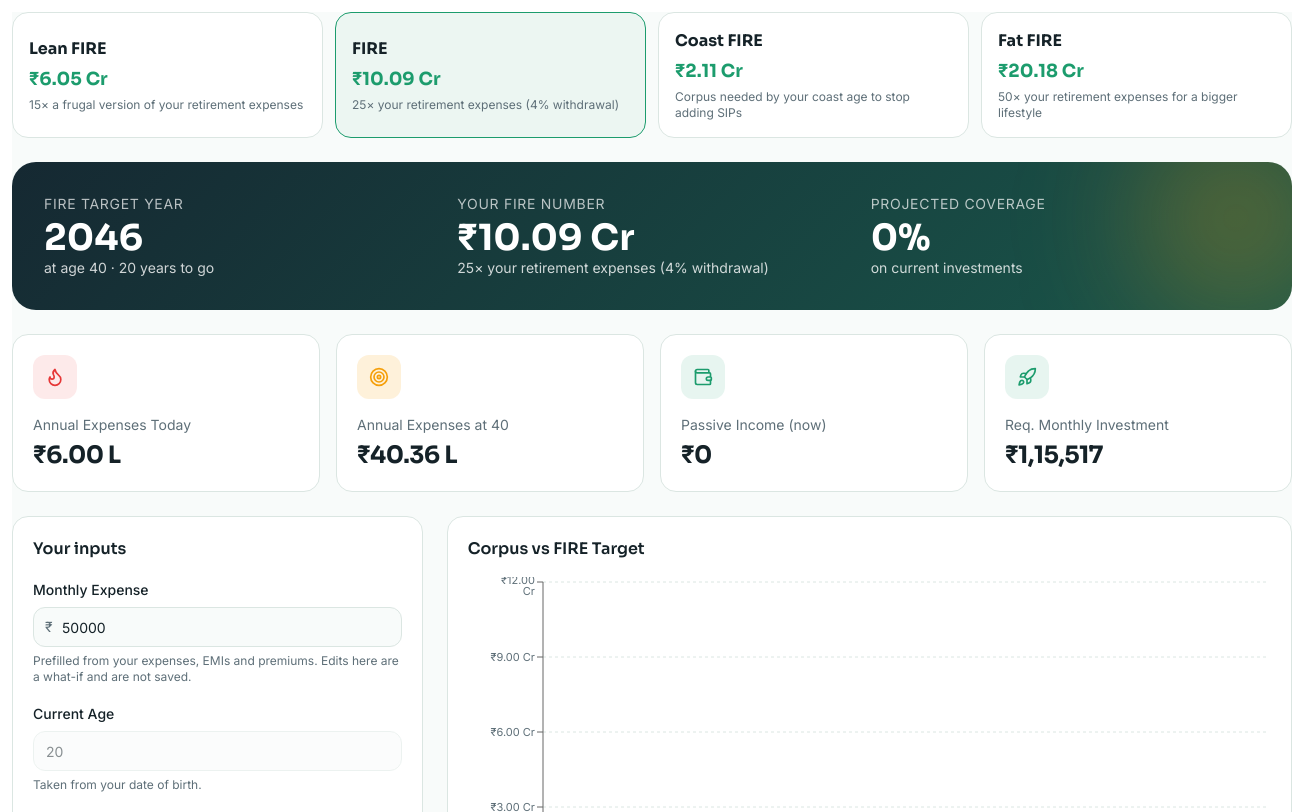
Test: FreedomCalculator › recalculates without saving when the monthly expense is changed
Replace the text in the number field labelled "Monthly Expense" with "100000" at (217, 627), box left=33, top=607, right=402, bottom=647
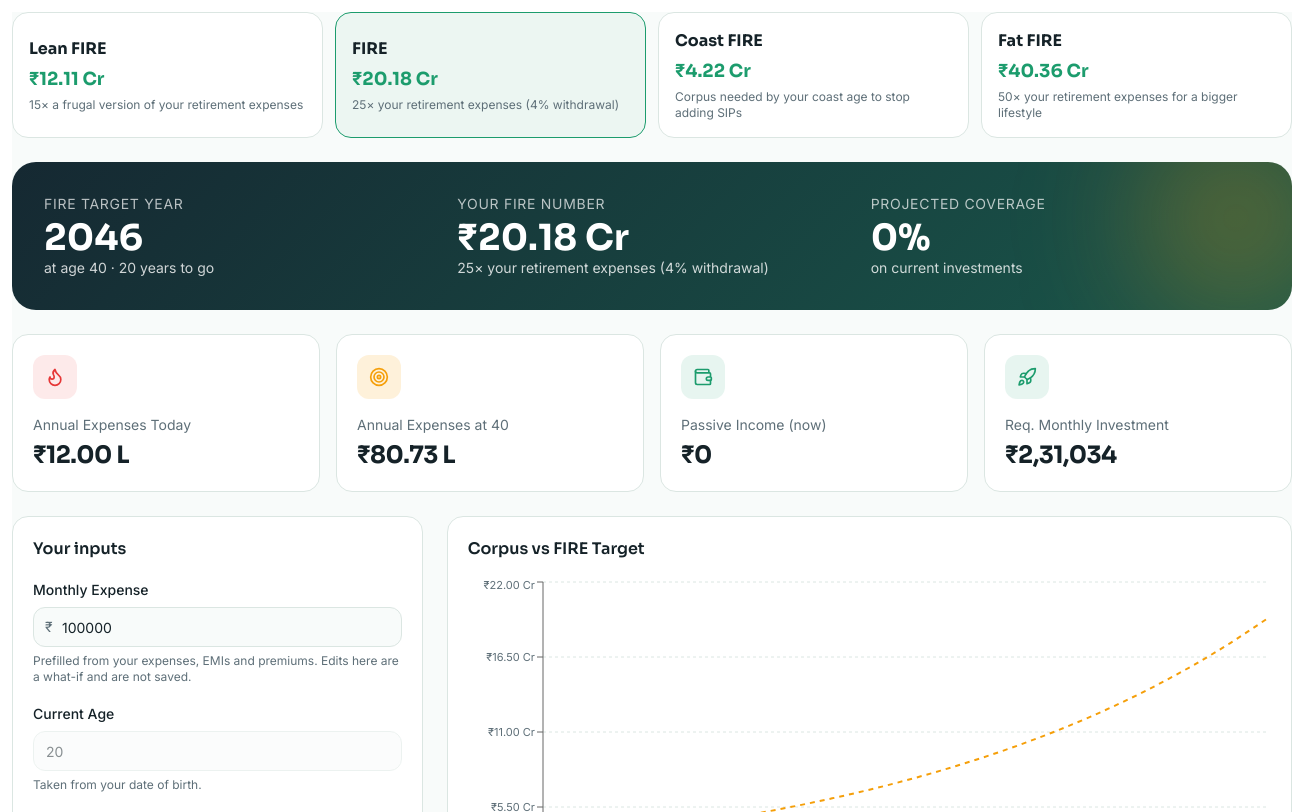
Check: the text "₹12.00 L" is shown, box left=33, top=440, right=129, bottom=470
